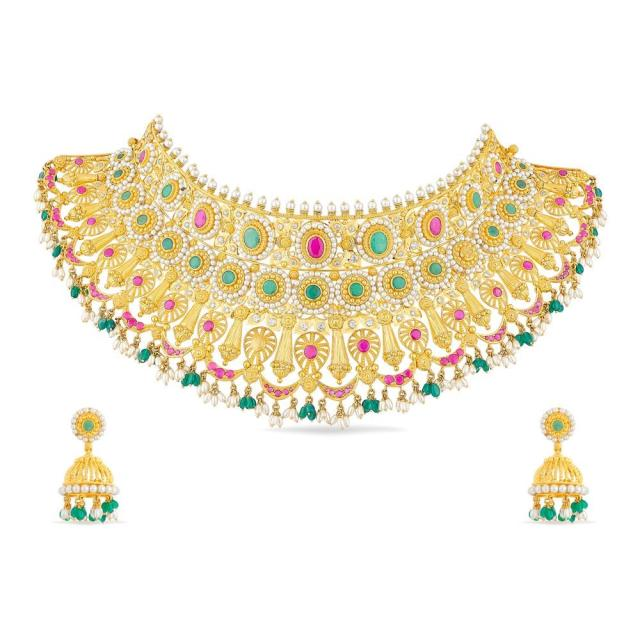missing gem: (252, 337, 265, 349), (461, 247, 473, 259)
